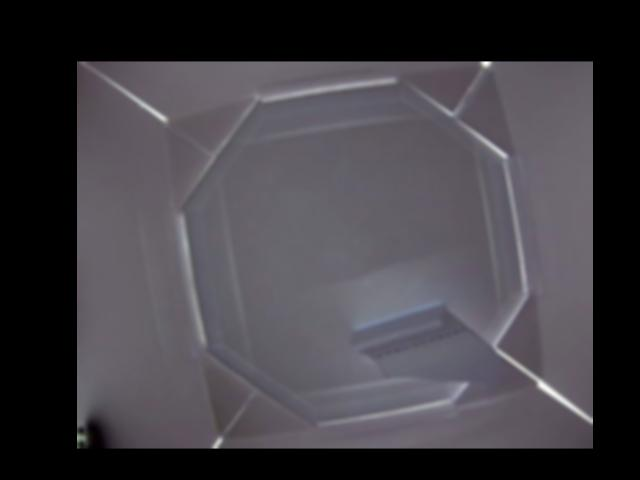China: (352, 300, 538, 387)
